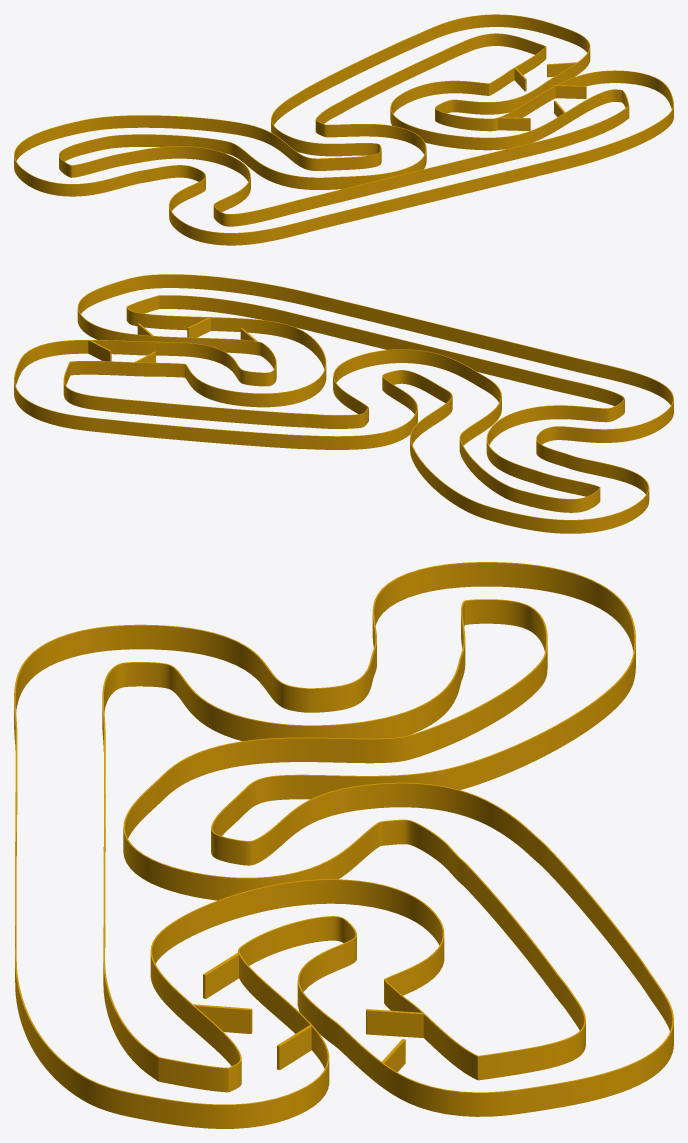
Rendered from Track.fbx.
3 renders of one model, top to bottom at view 1: azimuth 30°, elevation 25°; view 2: azimuth 150°, elevation 25°; view 3: azimuth 270°, elevation 25°, orthographic. The views are drawn at different scales.
Visible parts, largest first — view 1: THICK_WALLS.001; view 2: THICK_WALLS.001; view 3: THICK_WALLS.001.
Part boxes in pixels (x1,y1,x2,y2): THICK_WALLS.001: (14,14,673,245); THICK_WALLS.001: (14,274,673,533); THICK_WALLS.001: (14,562,673,1128).
Size of the model in its own units: 4012 by 7812 by 161.
